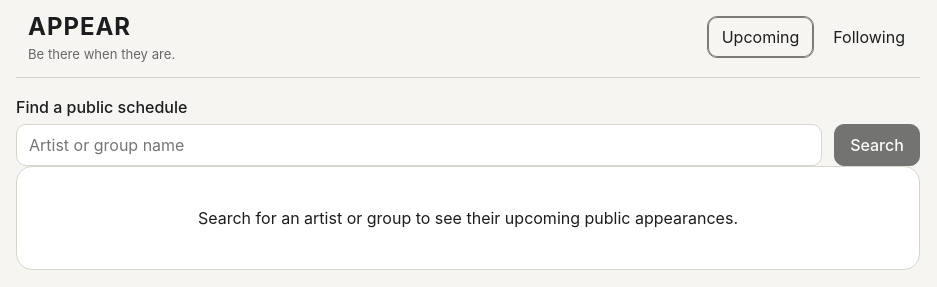
ScheduleApp › settles an initialization failure without retrying
Step 1. Type "New Artist" into the search field named "Search for a public schedule" → [419, 145], box left=16, top=124, right=822, bottom=166
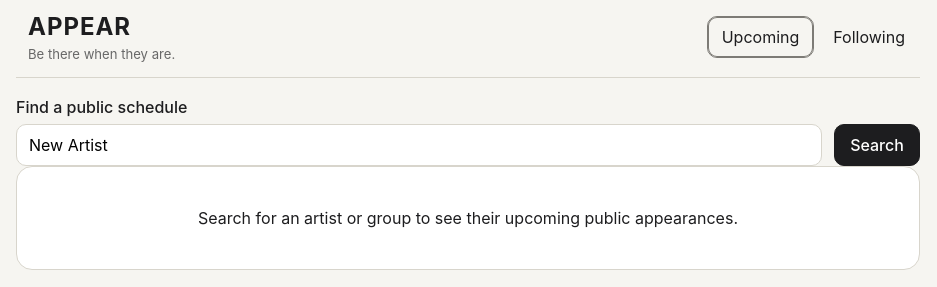
Step 2. Click the button "Search" → [877, 145], box left=834, top=124, right=920, bottom=166
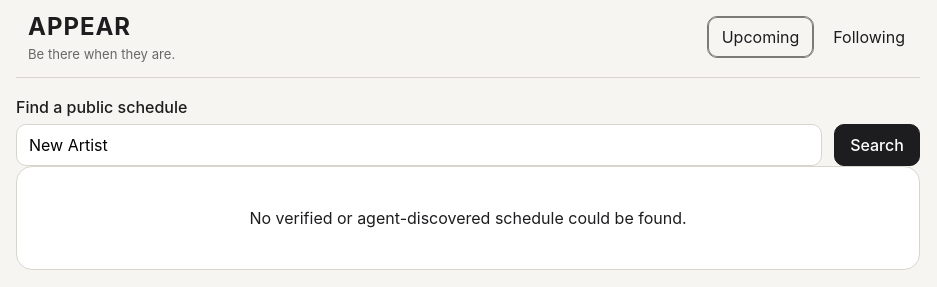
Now the text "No verified or agent-discovered schedule could be found." is shown, box left=249, top=208, right=687, bottom=228
